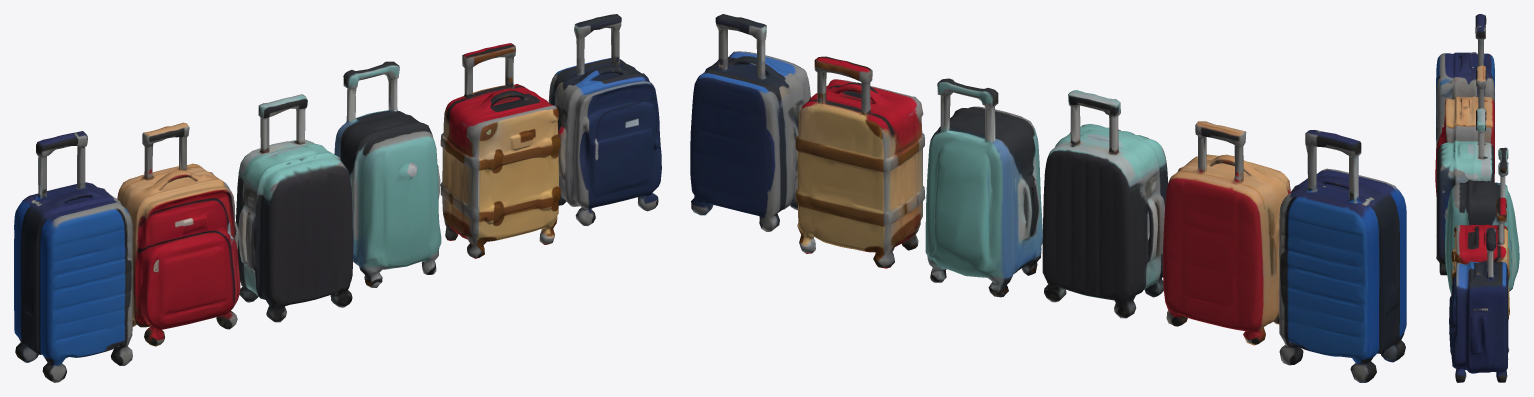
Rendered from Maletas.glb.
3 views of the same model, side by side, from view 1: azimuth 30°, elevation 25°; view 2: azimuth 150°, elevation 25°; view 3: azimuth 270°, elevation 25° (orthographic). The views are drawn at different scales.
Visible parts, largest first — view 1: tripo_node_037e4b8a-d007-4f99-af9d-73158b7a4138; view 2: tripo_node_037e4b8a-d007-4f99-af9d-73158b7a4138; view 3: tripo_node_037e4b8a-d007-4f99-af9d-73158b7a4138.
Boxes of the visible parts, x1=… form: tripo_node_037e4b8a-d007-4f99-af9d-73158b7a4138: x1=14, y1=14, x2=661, y2=382; tripo_node_037e4b8a-d007-4f99-af9d-73158b7a4138: x1=690, y1=14, x2=1406, y2=382; tripo_node_037e4b8a-d007-4f99-af9d-73158b7a4138: x1=1435, y1=14, x2=1519, y2=382.
Bounding box in the file's own units: 1 × 0.3299 × 0.1535.
1 material, 1 textured.
